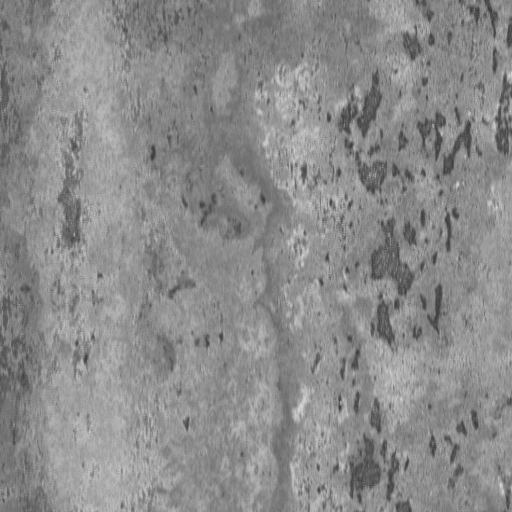xingxingliewen: (336, 65, 474, 352), (336, 391, 482, 512)
